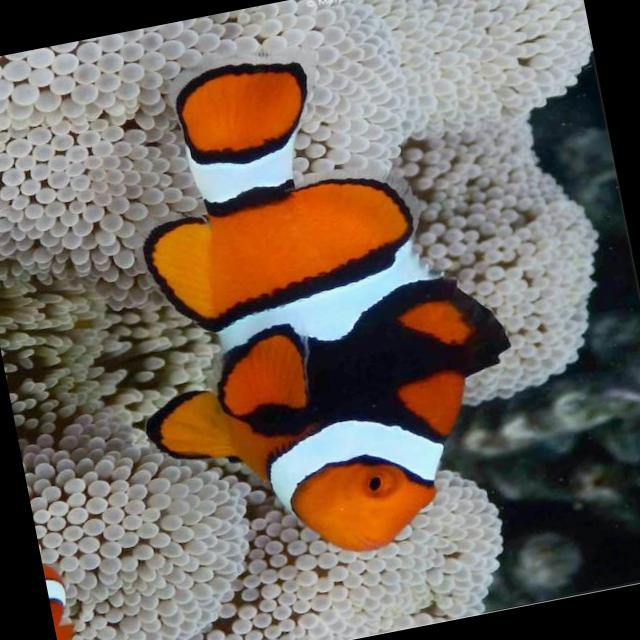ClownFish: (59, 13, 552, 600), (38, 542, 87, 640)
